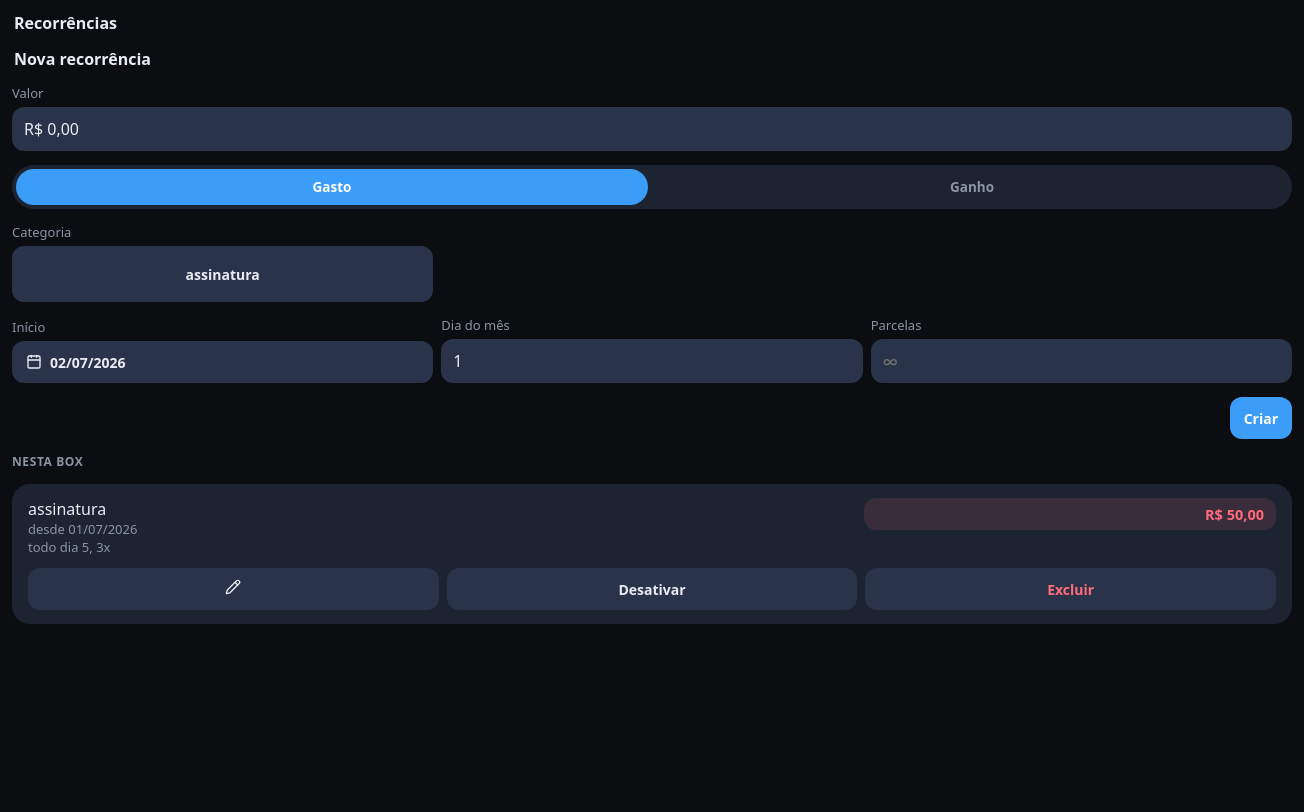
Test: toca no lápis para editar: abre os campos dentro do item e some "Nova recorrência"
Expected: the heading "Nova recorrência" is shown, [14, 48, 151, 70]
Click the button named "Editar". click: (233, 589)
box: [28, 568, 439, 610]
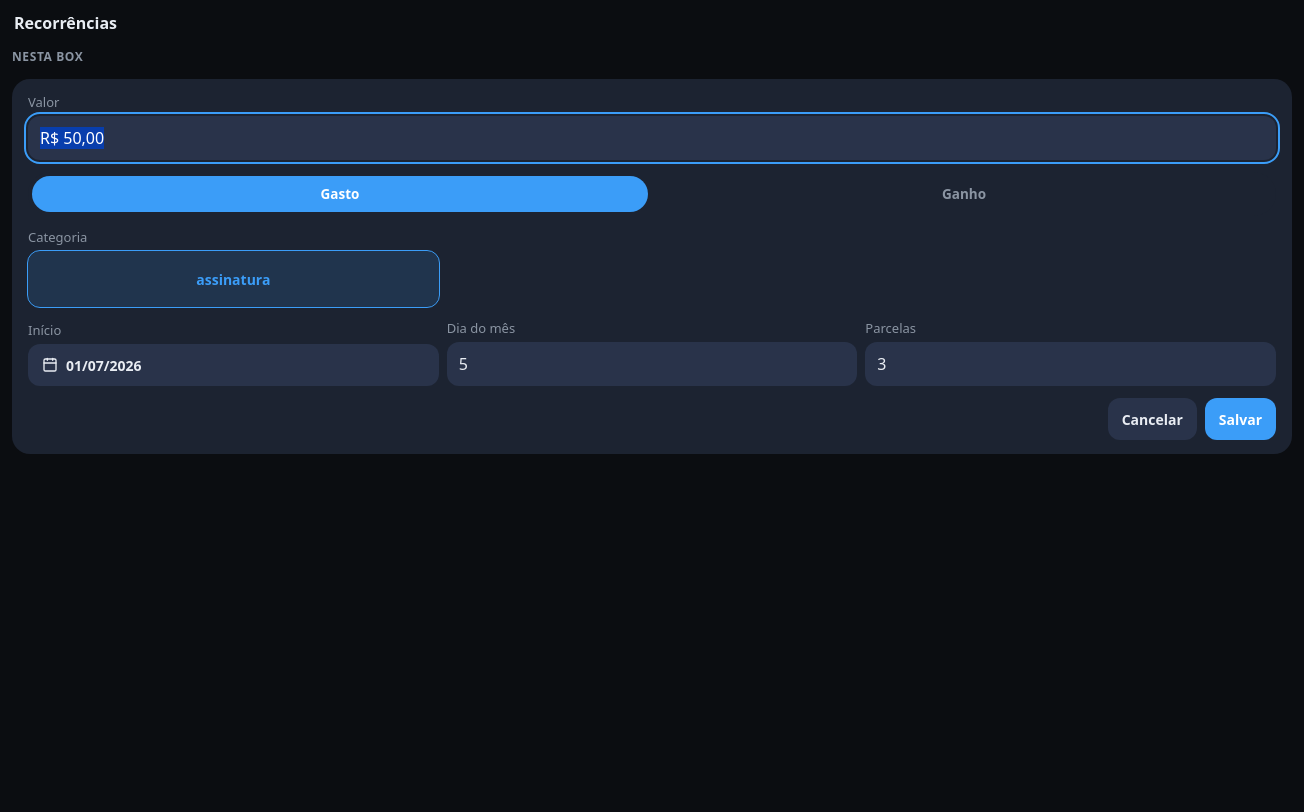
Expected: the heading "Nova recorrência" is gone
